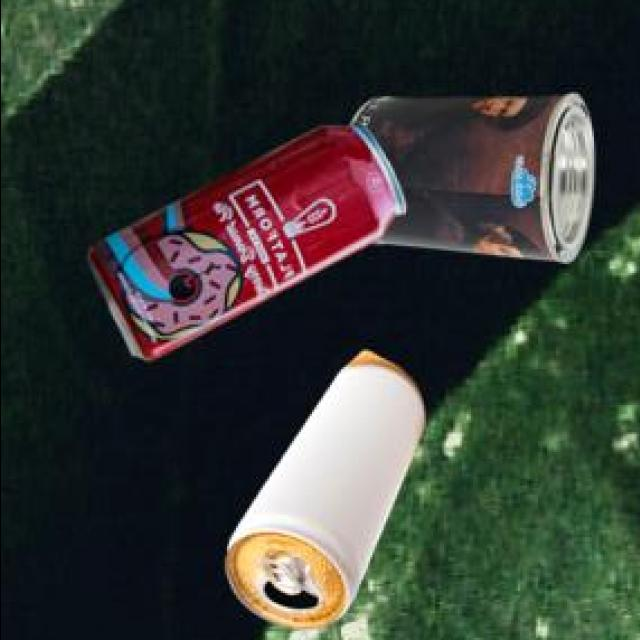logam: (91, 126, 408, 364), (227, 355, 426, 632), (355, 97, 596, 265)
